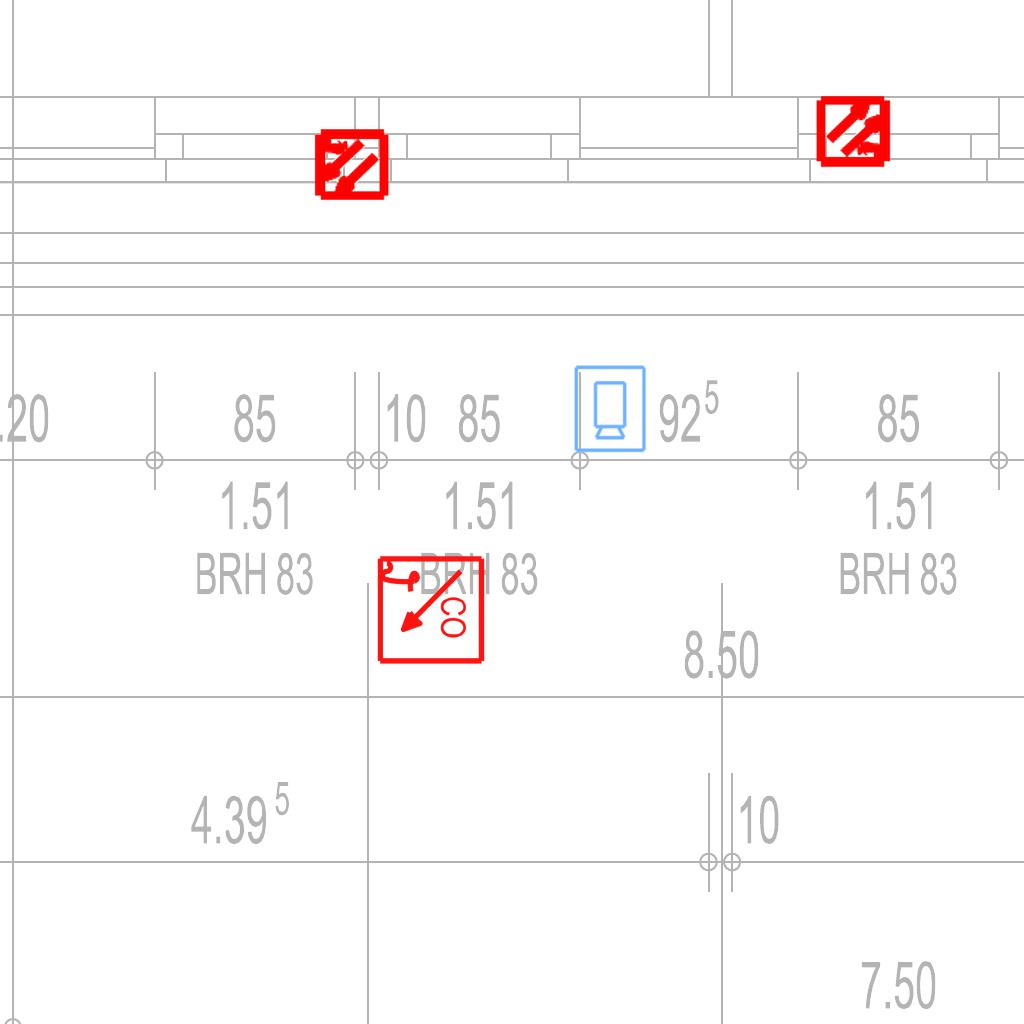KFO_Kamera_mit_Festobjektiv: (571, 363, 648, 454)
OT_Multisensormelder_(Kombination_RMO_WMD): (799, 75, 912, 188), (293, 108, 406, 221)
ROA_Rauchmelder_optisch_mit_Signalgeber_(Sockelsirene): (373, 554, 486, 667)
